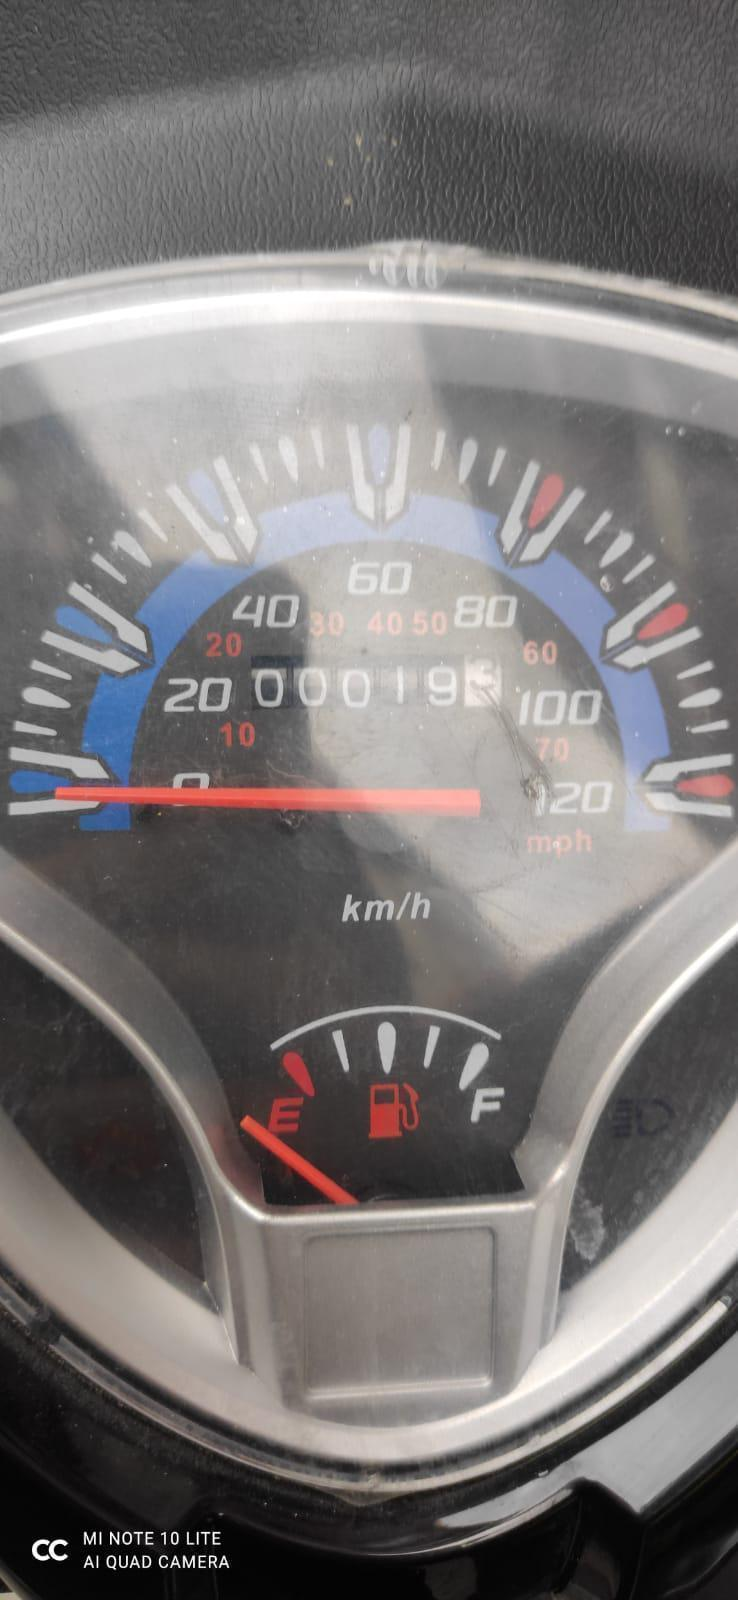0: (249, 664, 288, 709), (295, 664, 330, 708), (340, 665, 372, 709)
1: (388, 660, 411, 707)
3: (468, 653, 502, 699)
9: (423, 661, 460, 708)
odometer: (246, 651, 520, 713)
